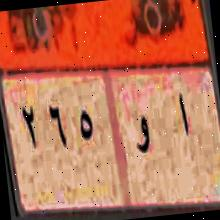2: (19, 102, 43, 160)
5: (72, 96, 98, 155)
6: (46, 99, 68, 157)
alif: (172, 90, 194, 141)
waw: (127, 105, 159, 166)
